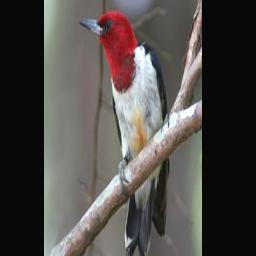Woodpecker: (78, 9, 169, 256)
